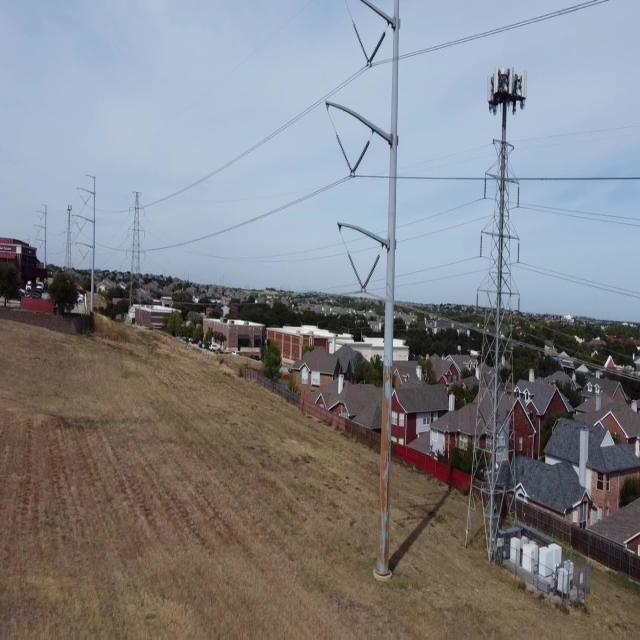杆塔: (450, 119, 525, 557), (124, 182, 148, 312), (60, 194, 78, 272)
正常绝缘子: (333, 123, 357, 183), (349, 16, 373, 71), (346, 248, 368, 298), (358, 251, 382, 296), (347, 139, 372, 182), (363, 27, 388, 69), (480, 166, 490, 210), (476, 223, 487, 262), (472, 285, 483, 323), (516, 294, 525, 334), (514, 178, 522, 217), (515, 234, 523, 272)
